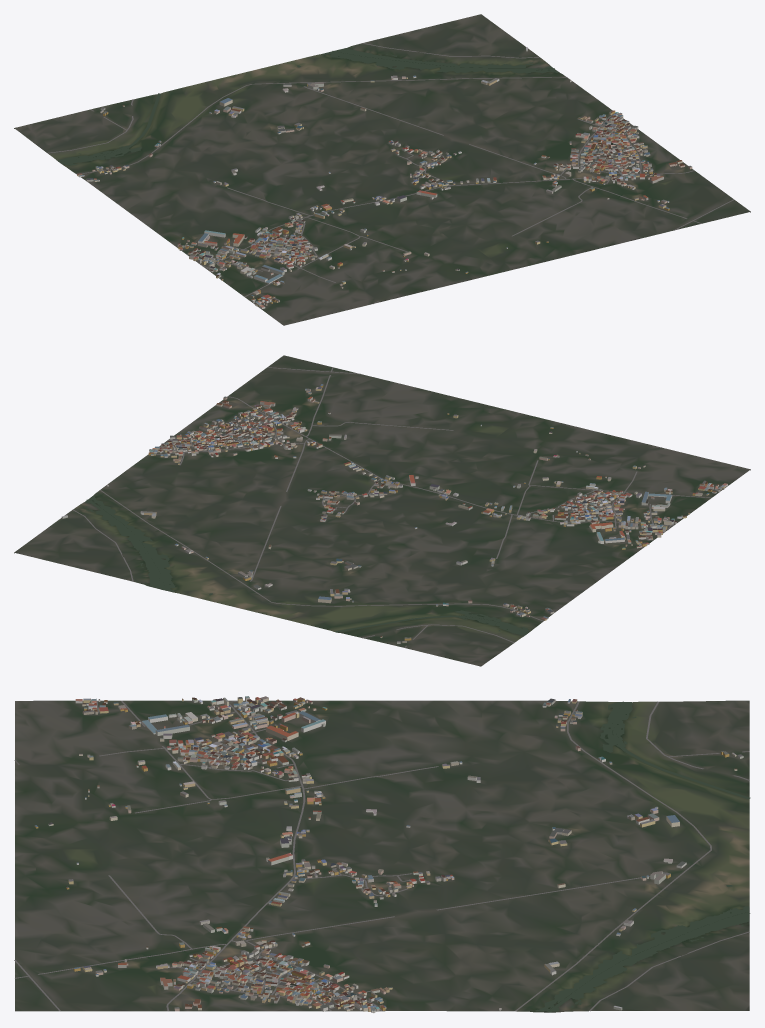
3 views of the same model, one above another, from view 1: azimuth 30°, elevation 25°; view 2: azimuth 150°, elevation 25°; view 3: azimuth 270°, elevation 25° (orthographic). The views are drawn at different scales.
Visible parts, largest first — view 1: ground, buildings, roads, water; view 2: ground, buildings, roads, water; view 3: ground, buildings, roads, water.
Boxes of the visible parts, x1,y1,x2,y2 form: ground: (14, 14, 750, 325); buildings: (77, 47, 692, 308); roads: (47, 43, 734, 303); water: (58, 47, 558, 165); ground: (14, 355, 750, 666); buildings: (61, 384, 727, 643); roads: (72, 367, 720, 647); water: (85, 496, 528, 635); ground: (15, 700, 749, 1012); buildings: (34, 696, 743, 1013); roads: (14, 700, 749, 1011); water: (535, 701, 750, 1012).
Size of the model in its own units: 1418 by 16.15 by 1406.
